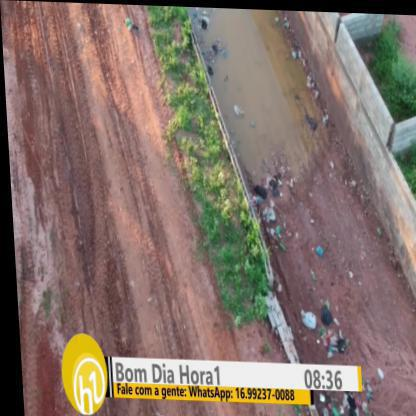agua: (221, 8, 311, 133)
